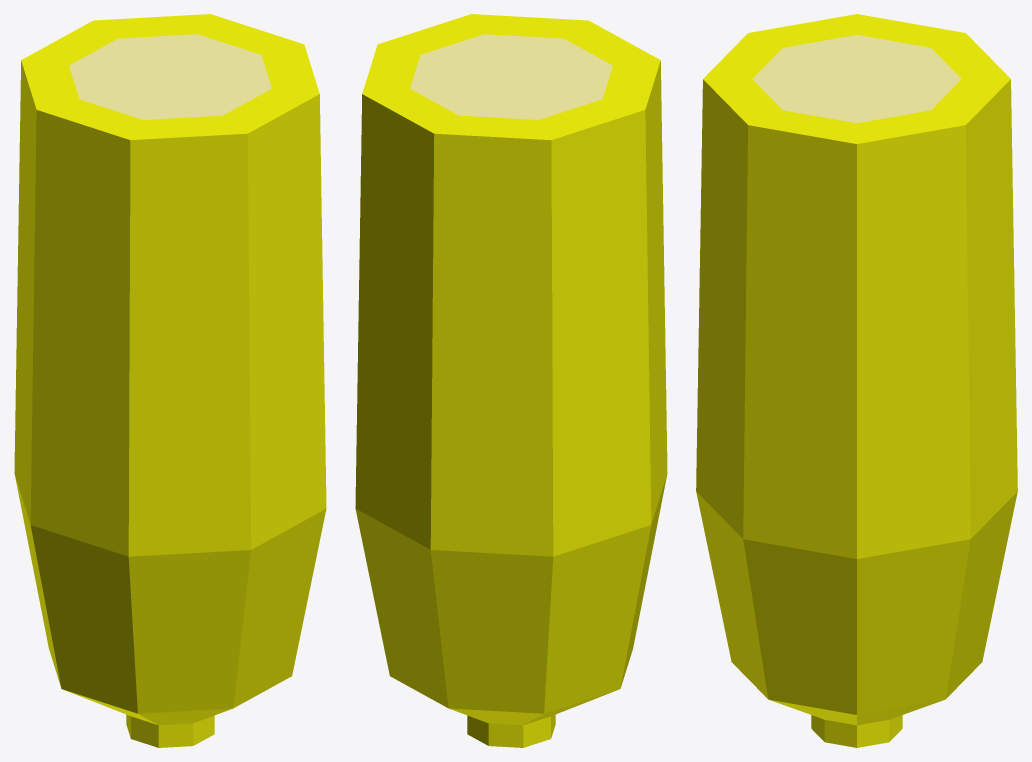
The model's file is corn04.obj.
The picture shows the model from 3 angles, left to right: view 1: azimuth 30°, elevation 25°; view 2: azimuth 150°, elevation 25°; view 3: azimuth 270°, elevation 25°; orthographic projection.
Parts seen in each view (by area): view 1: Cylinder; view 2: Cylinder; view 3: Cylinder.
Part boxes in pixels (box(x1,y1,x2,y2)): Cylinder: box(14, 14, 326, 747); Cylinder: box(355, 14, 667, 747); Cylinder: box(696, 14, 1017, 747).
Bounding box in the file's own units: 0.0612 × 0.1362 × 0.0612.
1 material, 1 textured.
